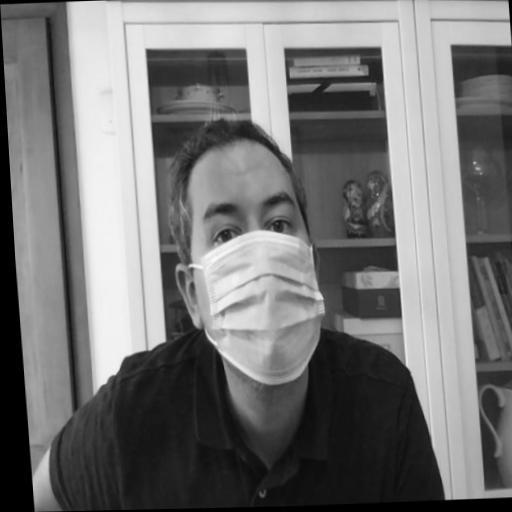mask: (163, 112, 333, 396)
